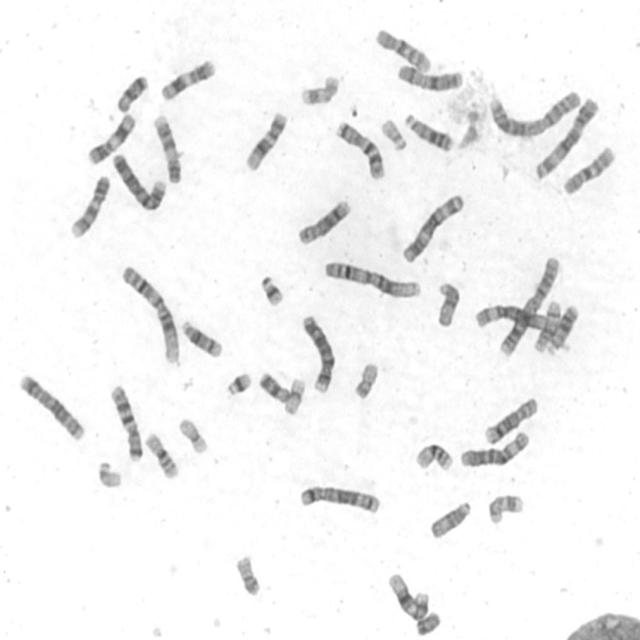A1: (117, 260, 181, 364), (320, 255, 423, 300)
A2: (496, 251, 562, 358), (484, 83, 584, 140)
A3: (530, 92, 600, 181), (398, 188, 467, 264)
B4: (108, 147, 168, 213), (297, 309, 336, 394)
B5: (14, 368, 87, 443), (296, 480, 382, 515)
C10: (558, 140, 618, 198), (371, 23, 432, 74)
C11: (83, 108, 137, 166), (156, 54, 217, 102)
C12: (241, 106, 288, 173), (384, 567, 431, 623)
C6: (471, 297, 563, 347), (456, 426, 532, 469)
C7: (331, 115, 386, 181), (105, 379, 144, 462)
C8: (293, 193, 353, 246), (480, 392, 540, 445)
C9: (66, 170, 111, 240), (149, 109, 182, 184)
D13: (400, 108, 455, 153), (543, 299, 580, 354)
D14: (534, 290, 569, 354), (177, 314, 224, 360)
D15: (426, 496, 472, 541), (432, 276, 462, 329)
E16: (141, 427, 180, 480), (411, 438, 455, 472)
E17: (296, 68, 341, 106), (484, 489, 524, 526)
E18: (112, 70, 150, 114), (254, 366, 292, 405)
F19: (174, 412, 209, 456), (279, 372, 307, 417)
F20: (231, 550, 262, 598), (350, 357, 380, 400)
G21: (256, 270, 286, 308), (222, 366, 253, 397)
G22: (377, 114, 408, 152), (93, 455, 123, 490)
X: (393, 58, 465, 93)
Y: (411, 606, 442, 637)
